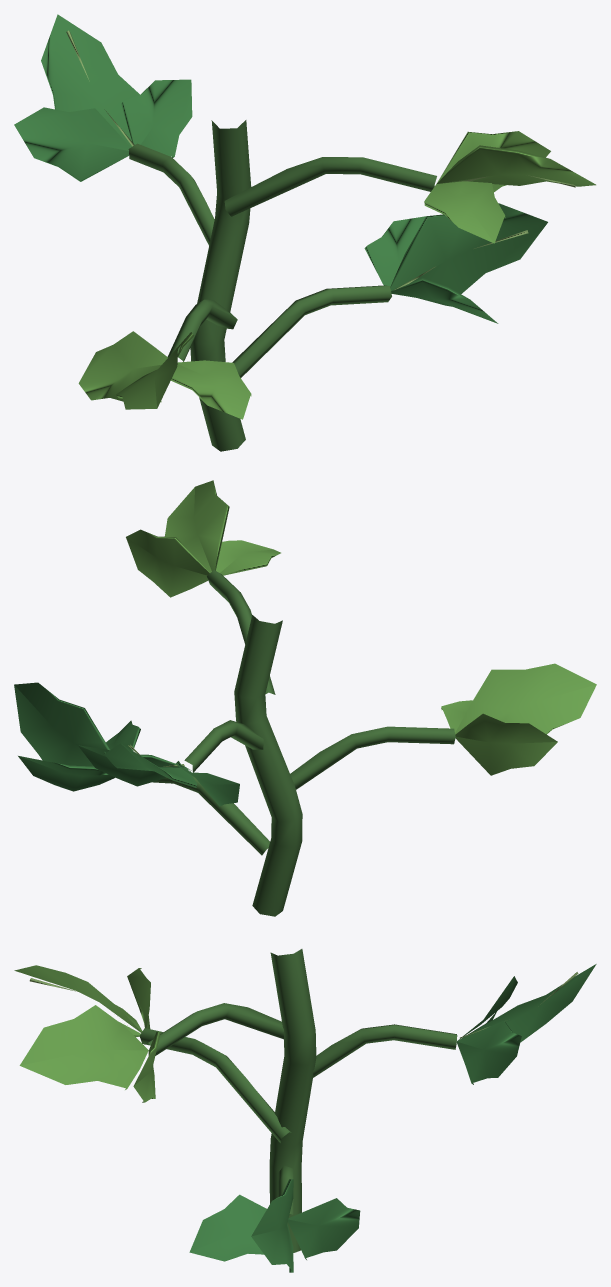
The model's file is tomate_1_lod.glb.
3 renders of one model, top to bottom at view 1: azimuth 30°, elevation 25°; view 2: azimuth 150°, elevation 25°; view 3: azimuth 270°, elevation 25°, orthographic. The views are drawn at different scales.
Visible parts, largest first — view 1: tomate_1_mata_0; view 2: tomate_1_mata_0; view 3: tomate_1_mata_0.
Part boxes in pixels (x1,y1,x2,y2): tomate_1_mata_0: (14,14,595,451); tomate_1_mata_0: (14,480,596,916); tomate_1_mata_0: (14,949,596,1272).
Bounding box in the file's own units: 0.6091 × 0.3679 × 0.6174.
